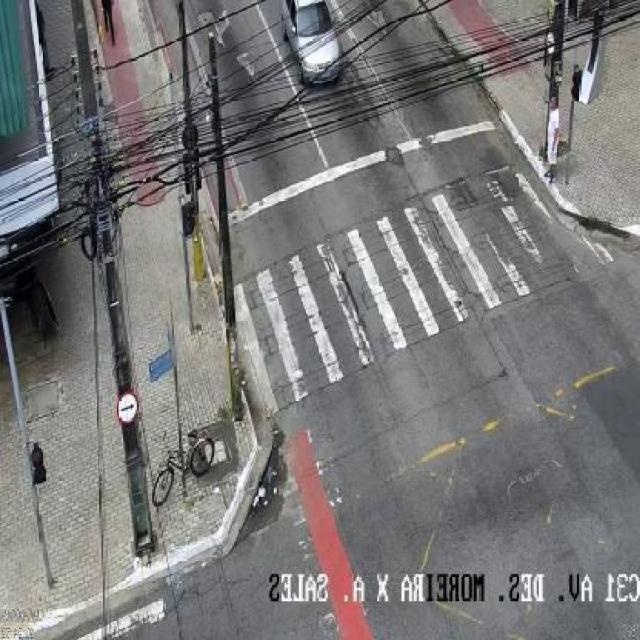Car: (262, 0, 358, 130)
Cycle: (146, 408, 232, 528)
